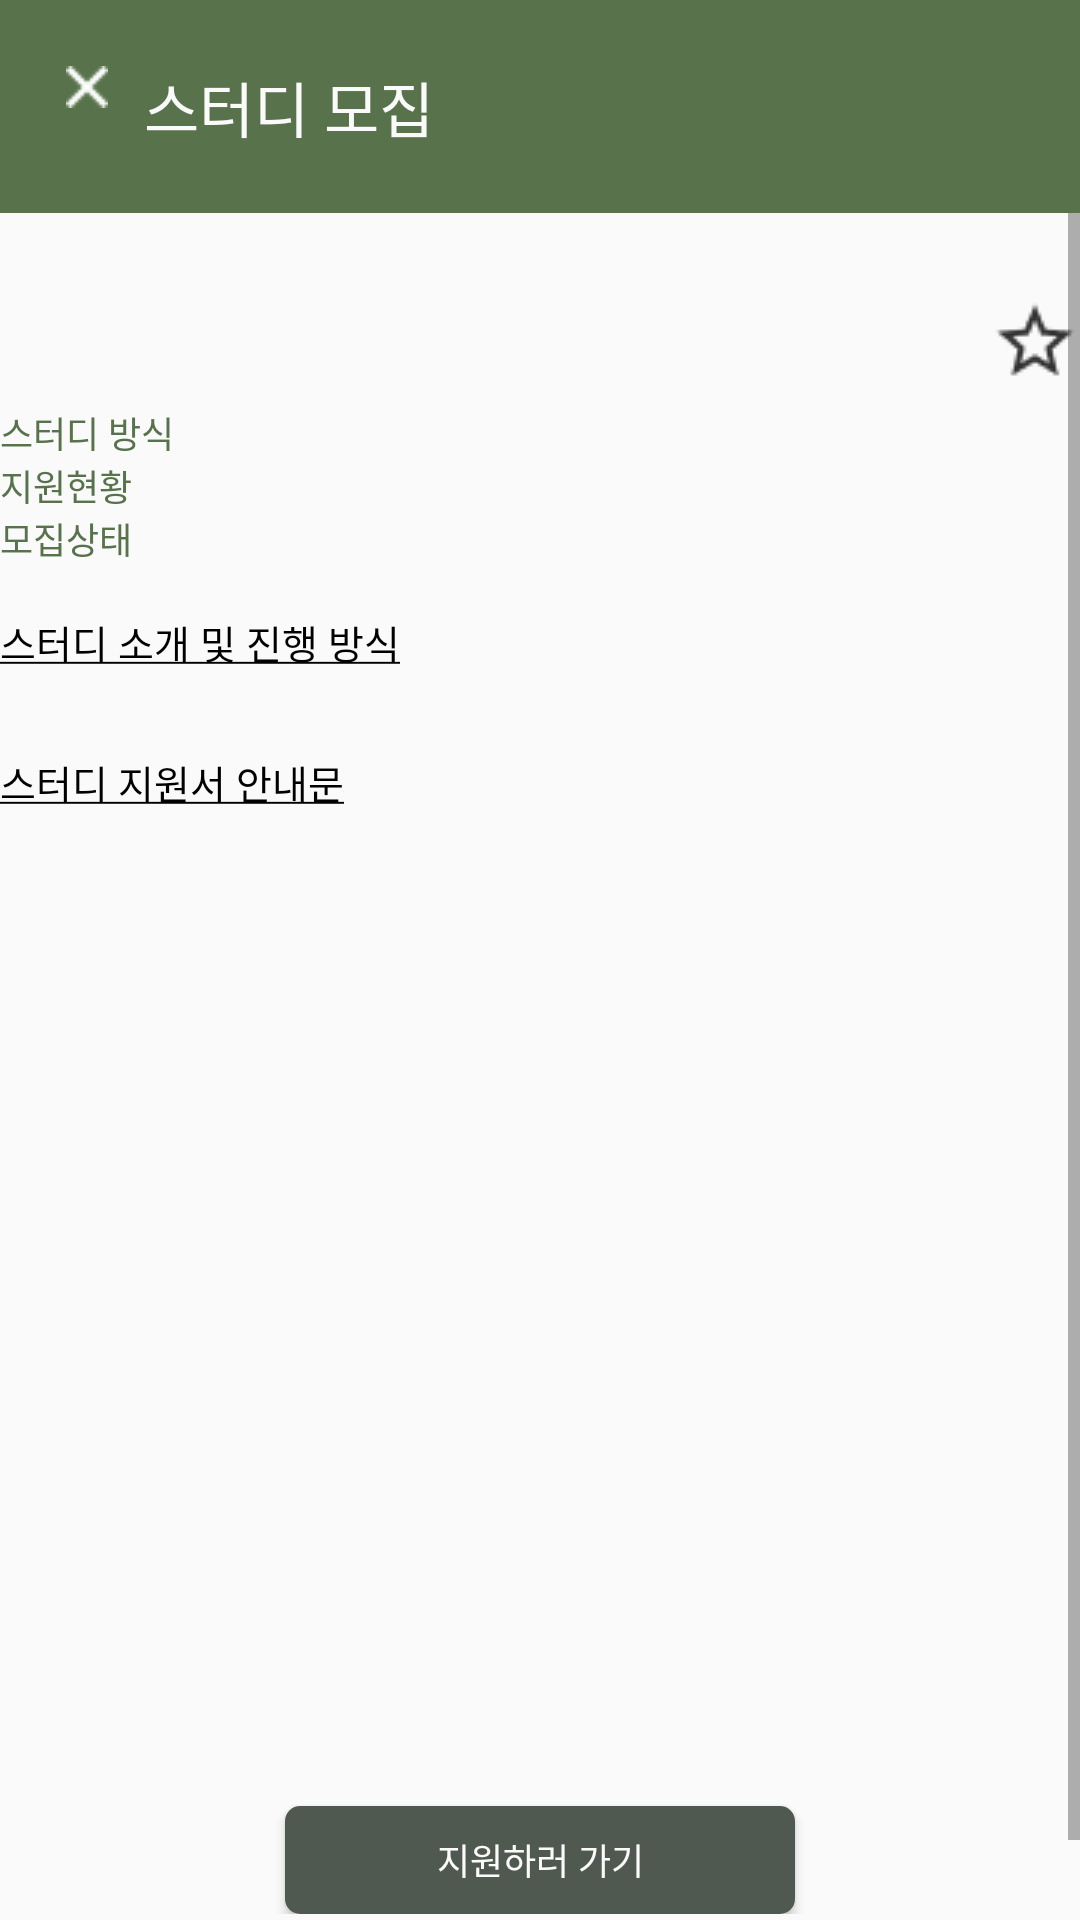

Point at icon controls on the screen. Image size 1080*1920, points as [x,y].
exit: [87,87]
star off: [1038,342]
